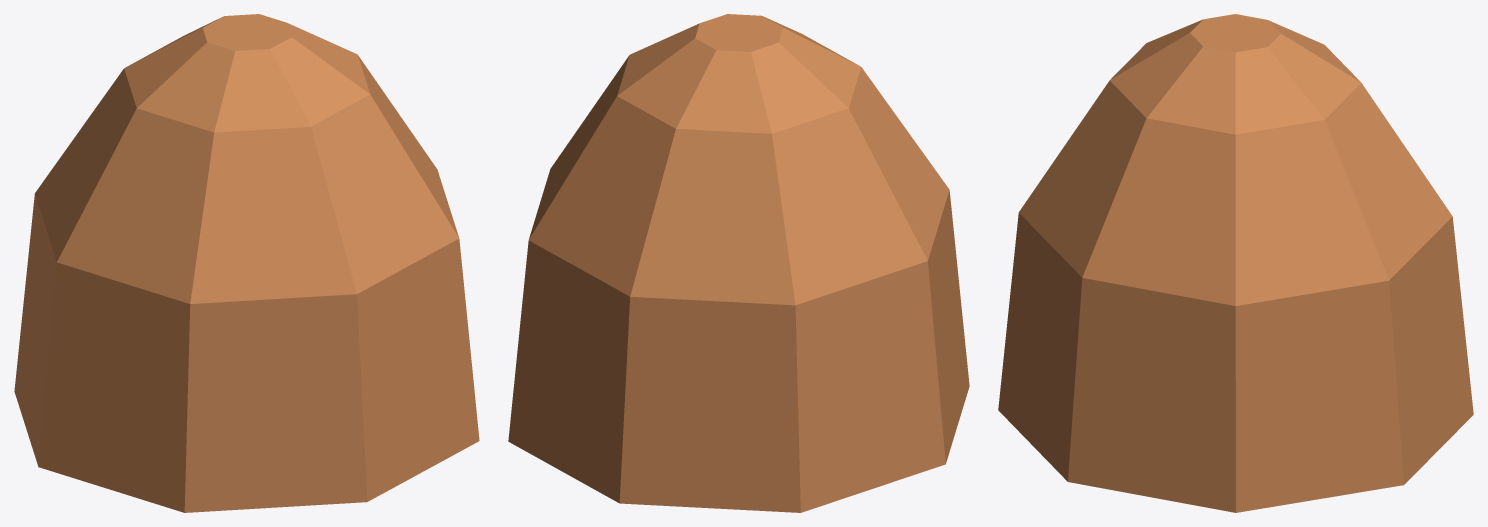
The model's file is 9x19bullet.glb.
3 renders of one model, left to right at view 1: azimuth 30°, elevation 25°; view 2: azimuth 150°, elevation 25°; view 3: azimuth 270°, elevation 25°, orthographic.
Parts seen in each view (by area): view 1: 9x19mm_Glock19.002_Cube.001; view 2: 9x19mm_Glock19.002_Cube.001; view 3: 9x19mm_Glock19.002_Cube.001.
Part boxes in pixels (x1=…): 9x19mm_Glock19.002_Cube.001: x1=14, y1=14, x2=479, y2=512; 9x19mm_Glock19.002_Cube.001: x1=508, y1=14, x2=969, y2=512; 9x19mm_Glock19.002_Cube.001: x1=998, y1=14, x2=1473, y2=512.
Size of the model in its own units: 0.1143 by 0.1013 by 0.1143.
